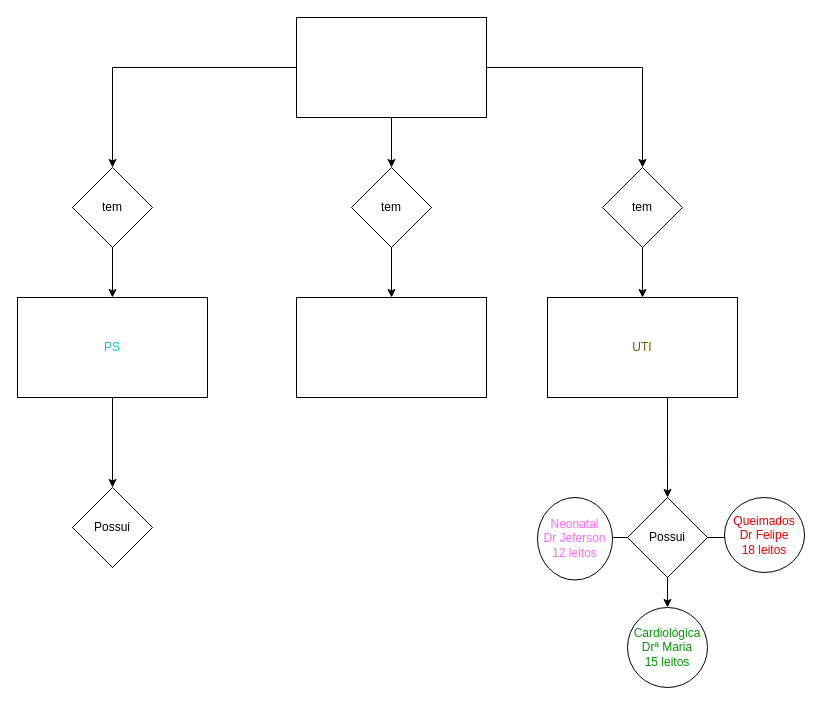
Some shapes in this 830 by 705 pixel diagram are drawn without their labels. The shapes that lost their labels are listed below. From the top down, each one's centre as x and y in pixels, then its label:
At [391,67]: "HOSPITAL".
At [391,347]: "INTERNAÇÃO".
